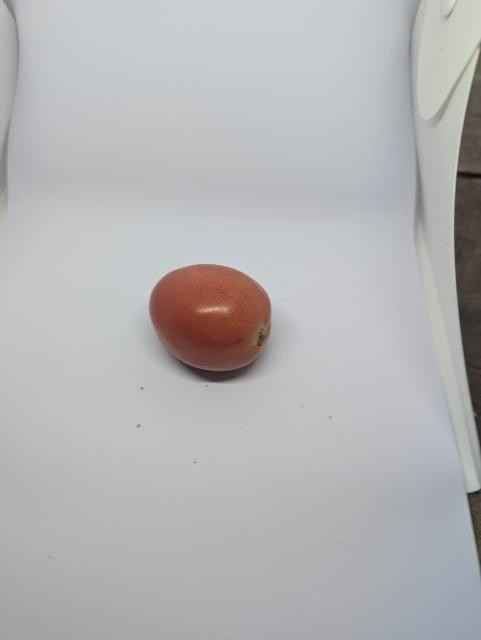red: (147, 262, 274, 378)
